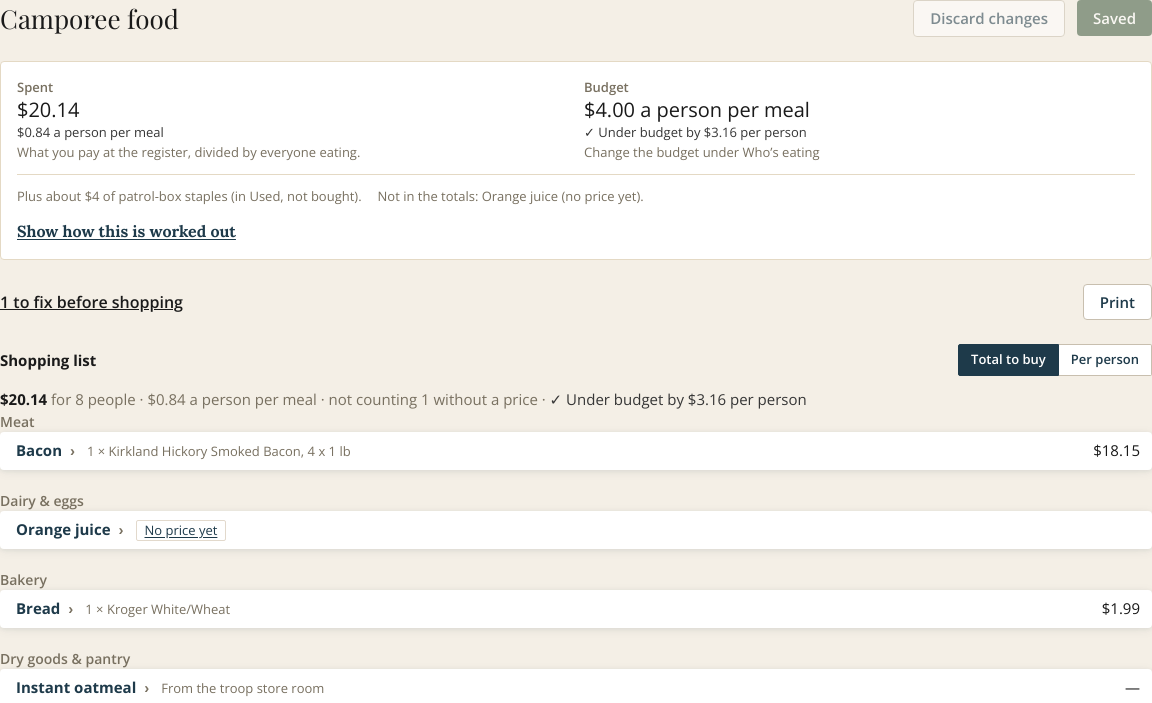
ShoppingTab › inset disclosure › Inset_SaysHowMuchIsNeeded_AndWhichMealsUseIt
The width and height of the screenshot is (1152, 703).
Click the button "Bacon ›": [46, 451] box [16,439,75,462]
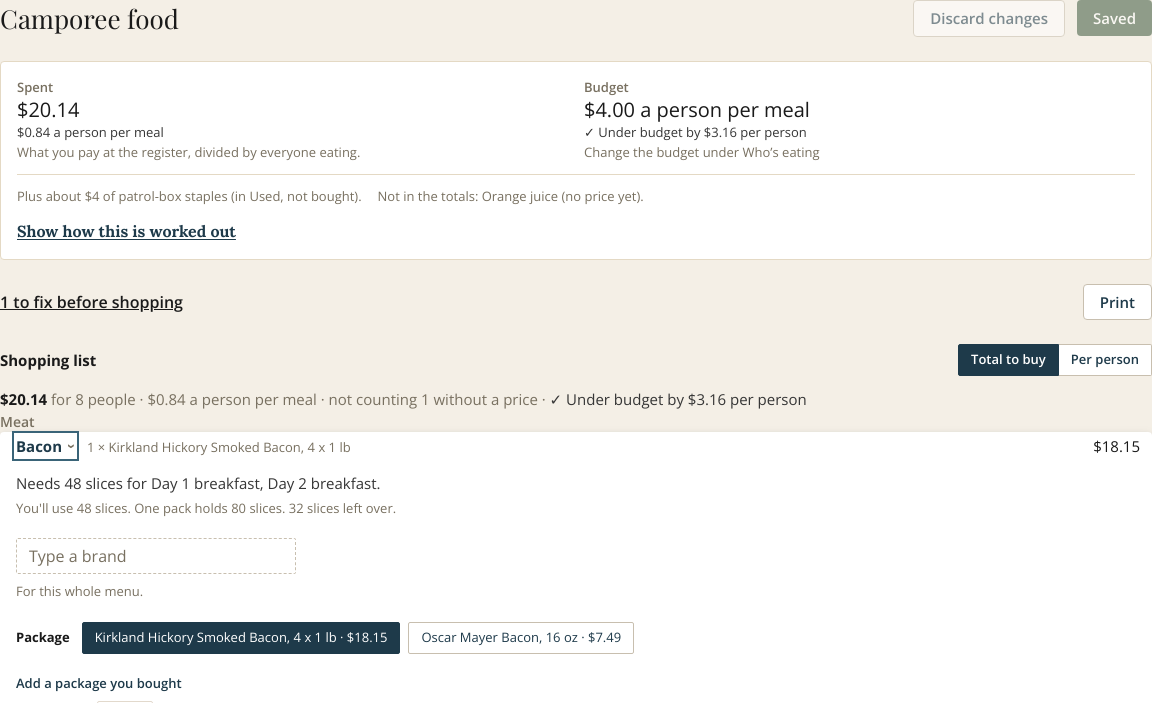
Expected: the text "Needs 48 slices for Day 1 breakfast, Day 2 breakfast." is shown, [16,473,380,493]
